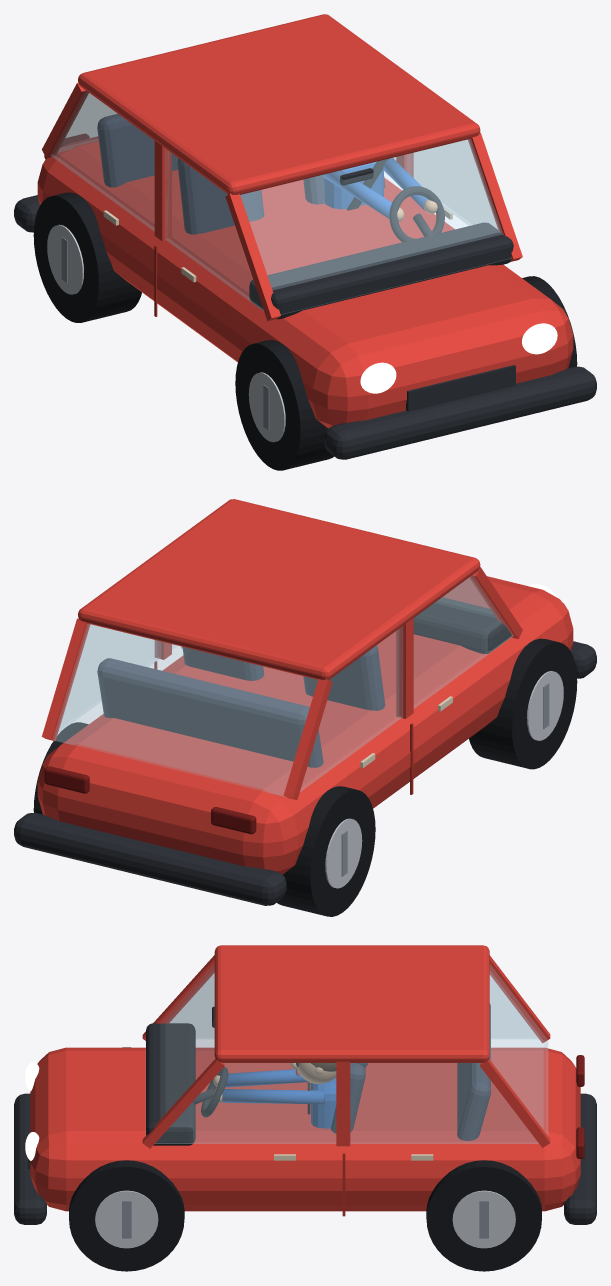
File: coche_con_conductor.glb
3 renders of one model, top to bottom at view 1: azimuth 30°, elevation 25°; view 2: azimuth 150°, elevation 25°; view 3: azimuth 270°, elevation 25°, orthographic. The views are drawn at different scales.
Parts seen in each view (by area): view 1: Cube, Cube.016, parabrisas, Cube.017, Cube.001, rueda_4, rueda_2, ventana_tras, ventana, vidrio_l1, Cube.025, Cube.022 (+12 smaller); view 2: Cube, Cube.016, medallon, Cube.025, Cube.002, rueda_2, rueda_4, ventana_tras, ventana, vidrio_l2, Cube.017, Cube.022 (+10 smaller); view 3: Cube, Cube.016, vidrio_l2, vidrio_l1, rueda_1, rueda_3, medallon, Cube.017, parabrisas, conductor, Cube.002, Cube.001 (+10 smaller).
Part boxes in pixels (box(x1,y1,x2,y2)): Cube: box(37, 136, 573, 428); Cube.016: box(78, 14, 480, 194); parabrisas: box(240, 139, 510, 289); Cube.017: box(249, 222, 513, 319); Cube.001: box(324, 366, 596, 459); rueda_4: box(33, 192, 141, 322); rueda_2: box(235, 340, 333, 470); ventana_tras: box(50, 90, 154, 230); ventana: box(165, 149, 263, 311); vidrio_l1: box(407, 140, 497, 228); Cube.025: box(97, 114, 178, 187); Cube.022: box(177, 158, 264, 234); Cube: box(37, 576, 573, 874); Cube.016: box(78, 499, 480, 679); medallon: box(53, 624, 317, 796); Cube.025: box(97, 658, 323, 767); Cube.002: box(14, 812, 286, 905); rueda_2: box(469, 638, 577, 769); rueda_4: box(277, 786, 375, 916); ventana_tras: box(300, 626, 402, 791); ventana: box(414, 575, 513, 708); vidrio_l2: box(58, 625, 160, 732); Cube.017: box(413, 597, 511, 653); Cube.022: box(303, 645, 385, 710); Cube: box(30, 1047, 580, 1211); Cube.016: box(214, 945, 489, 1062); vidrio_l2: box(350, 1063, 538, 1143); vidrio_l1: box(155, 1063, 335, 1143); rueda_1: box(69, 1160, 184, 1271); rueda_3: box(426, 1160, 541, 1271); medallon: box(489, 965, 547, 1134); Cube.017: box(146, 1023, 195, 1145); parabrisas: box(160, 964, 214, 1117); conductor: box(213, 1063, 336, 1128); Cube.002: box(564, 1093, 596, 1224); Cube.001: box(14, 1093, 46, 1224).
Size of the model in its own units: 2.09 by 1.71 by 4.24.
